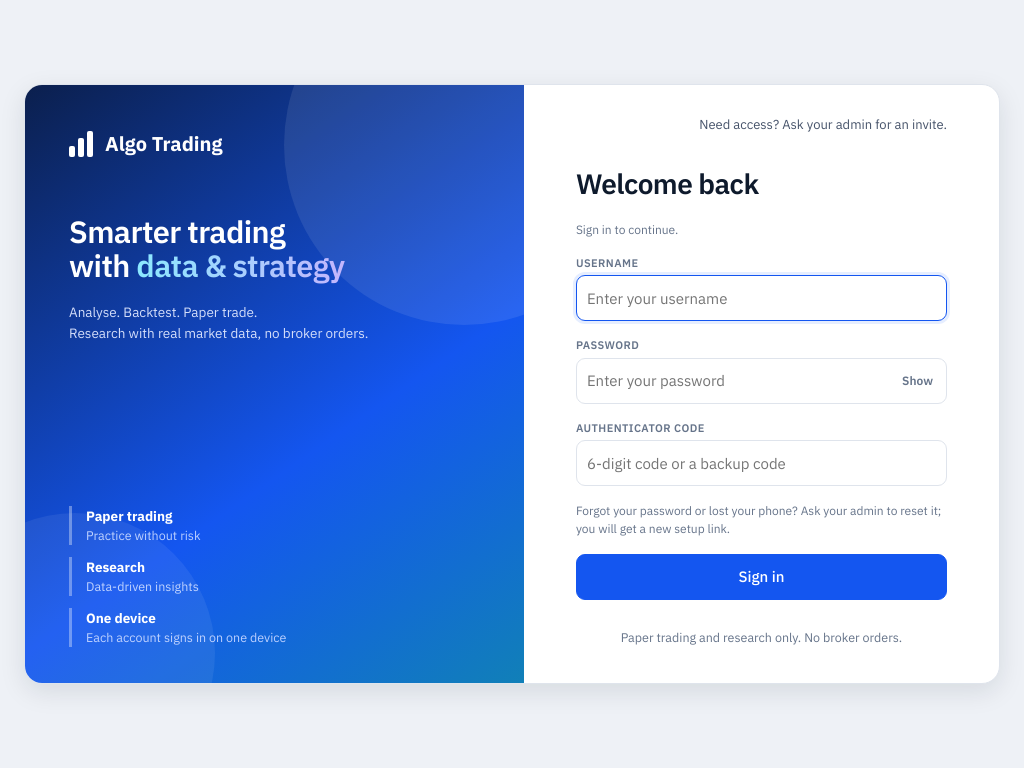
Scenario: LoginPage › says only "invalid" for a wrong login and clears the code
The width and height of the screenshot is (1024, 768).
Step 1. Type "rahul" into the field labelled "Username" → [761, 298], box [576,275,947,321]
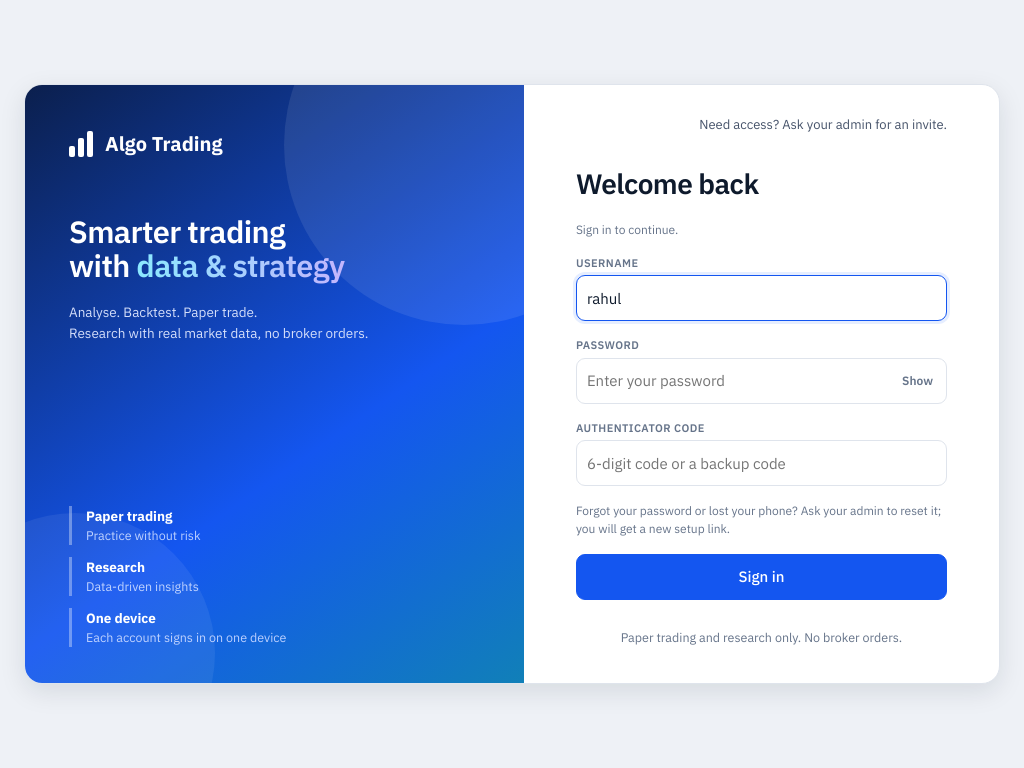
Step 2. Type "a long password!" into the password field labelled "Password Show" → [761, 381], box [576,358,947,404]
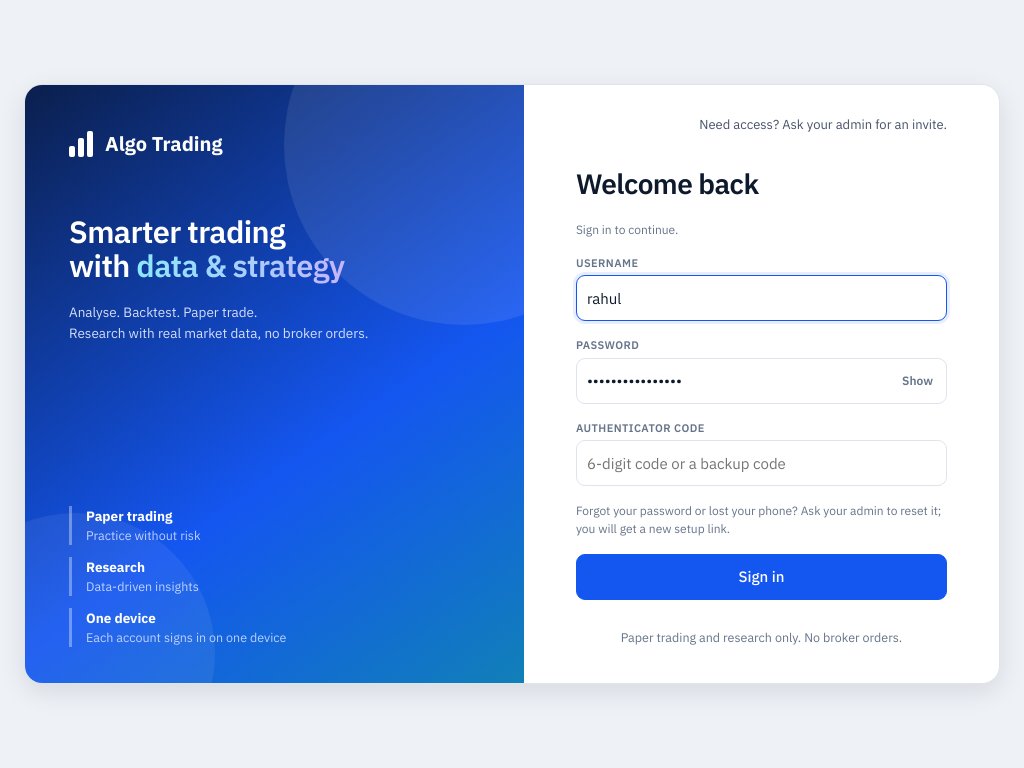
Step 3. Type "123456" into the field labelled "Authenticator code" → [761, 463], box [576,440,947,486]
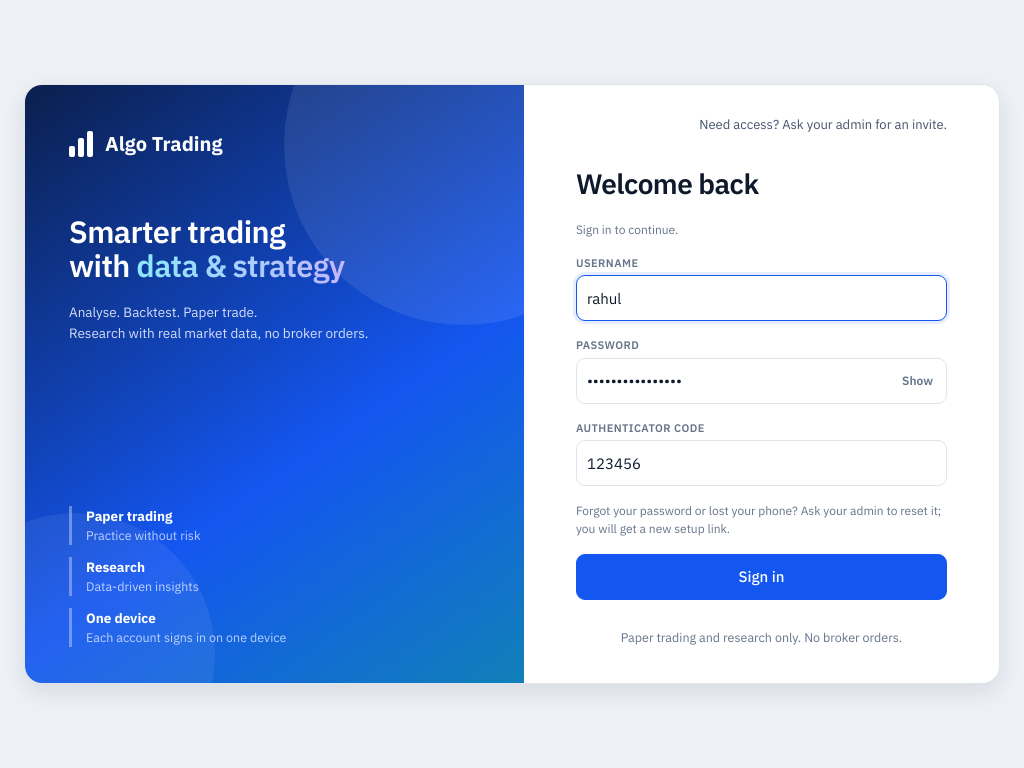
Step 4. Click the button "Sign in" → [761, 577], box [576,554,947,600]
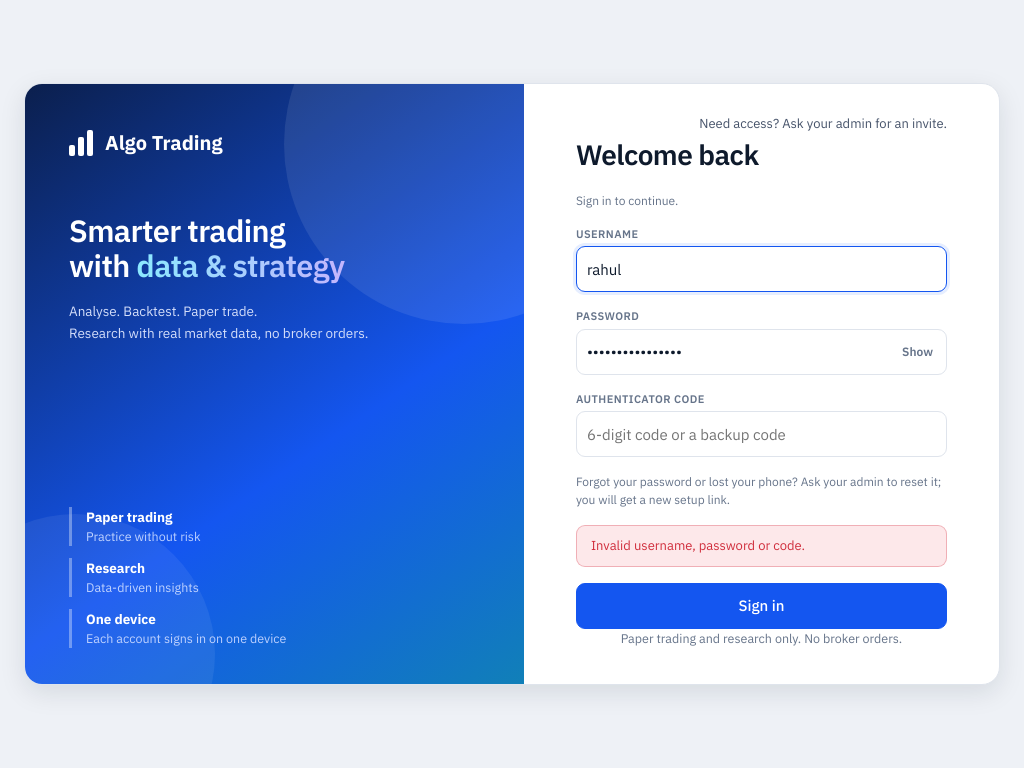
Now the message reads "Invalid username, password or code.", box [591,537,805,554]
Now the field labelled "Authenticator code" is empty, box [576,411,947,457]
